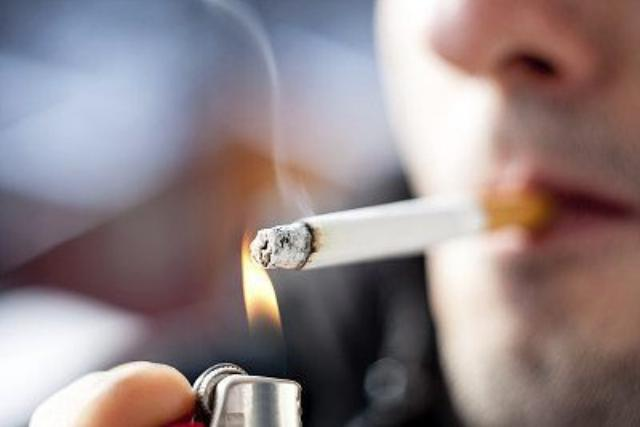Smoking: (250, 185, 554, 276)
